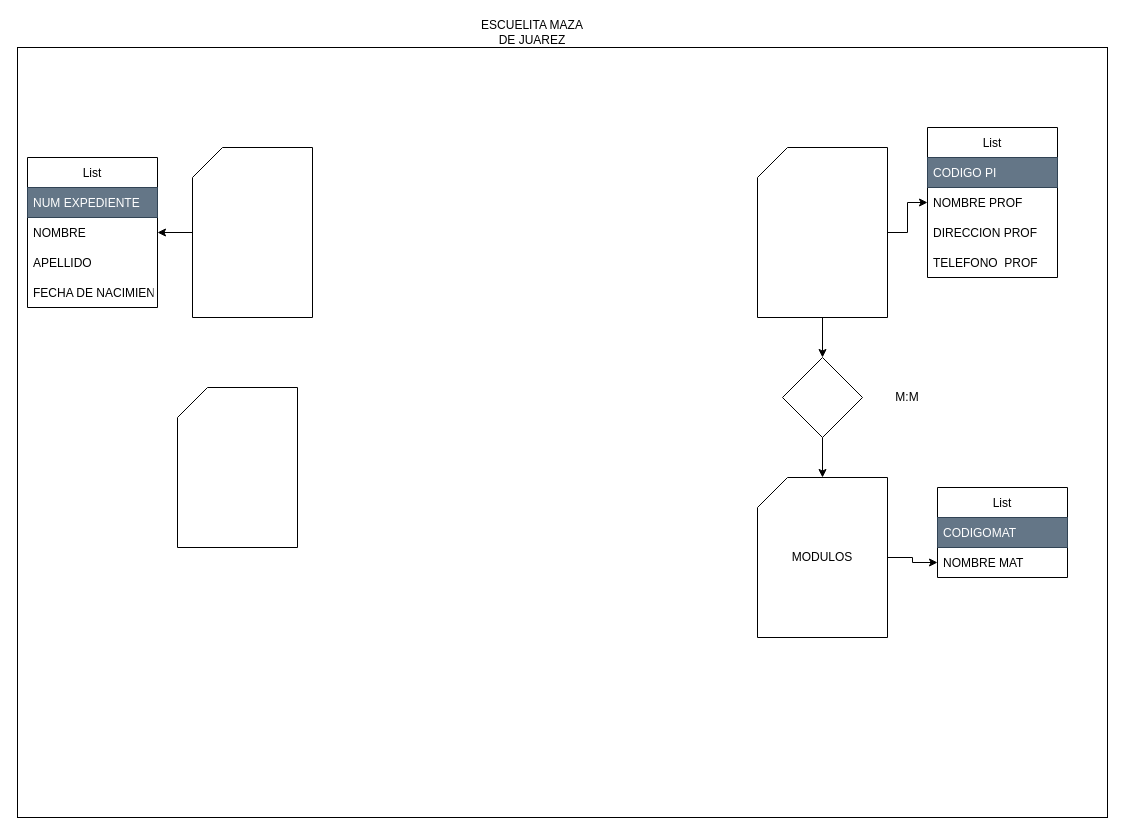
This 1125x835 diagram has some shape labels left out. Here are the shapes that lost their labels. From the top down, the centre of each, then its label:
the point at 252,232: ALUMNOS
the point at 822,232: PROFESORES
the point at 822,397: IMPARTEN
the point at 237,467: ENCARGADO
